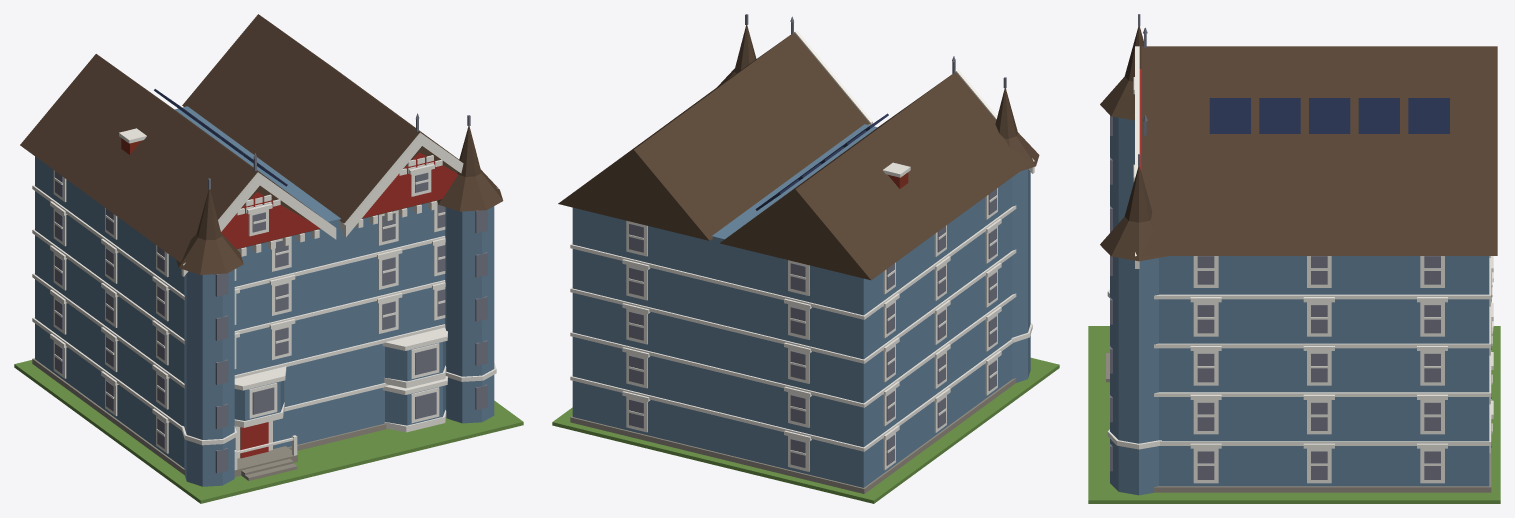
The model's file is house-2x2-5f-victorian-a-solar.glb.
3 renders of one model, left to right at view 1: azimuth 30°, elevation 25°; view 2: azimuth 150°, elevation 25°; view 3: azimuth 270°, elevation 25°, orthographic. The views are drawn at different scales.
Visible parts, largest first — view 1: house-2x2-5f-victorian-a-solar; view 2: house-2x2-5f-victorian-a-solar; view 3: house-2x2-5f-victorian-a-solar.
Boxes of the visible parts, x1,y1,x2,y2 form: house-2x2-5f-victorian-a-solar: (14, 14, 523, 503); house-2x2-5f-victorian-a-solar: (552, 14, 1059, 503); house-2x2-5f-victorian-a-solar: (1088, 14, 1500, 503).
Bounding box in the file's own units: 1.99 × 1.84 × 1.99.
Materials: 1 (1 with a texture image).
